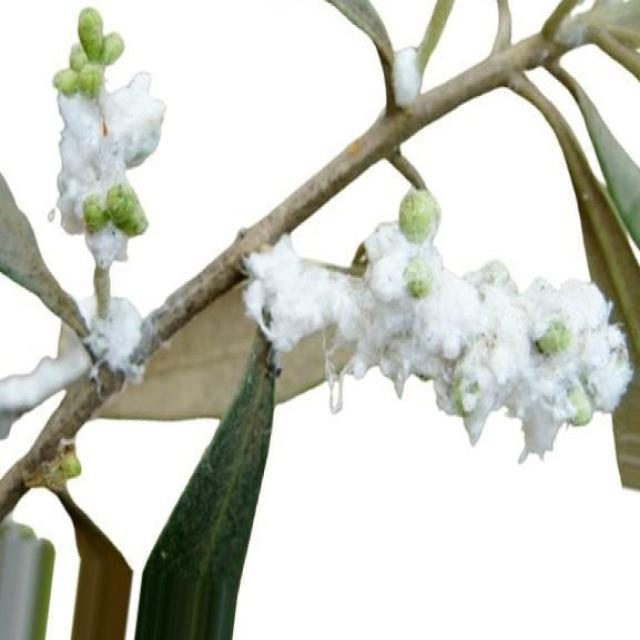Psyllid: (243, 191, 632, 458), (0, 8, 164, 438)
